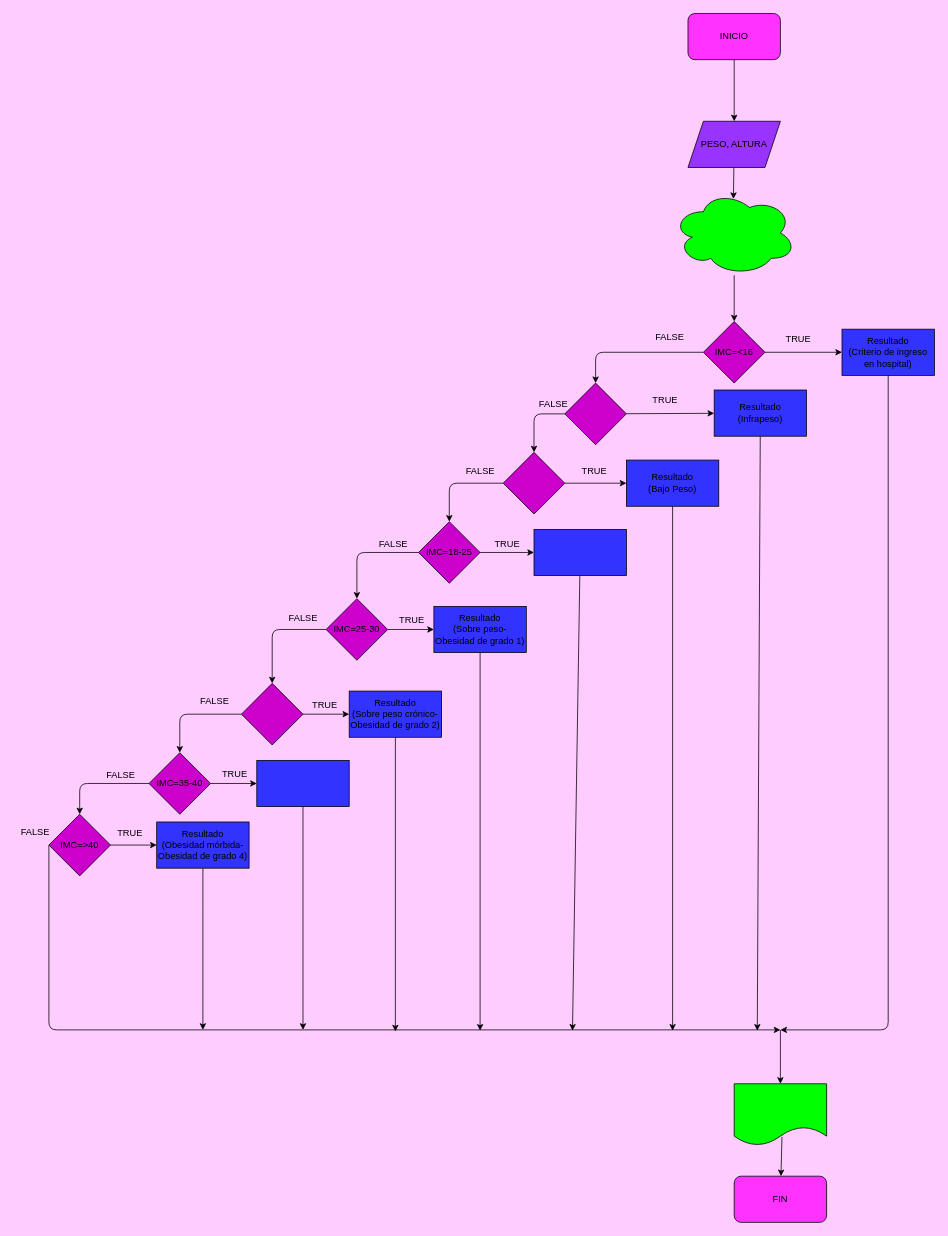
The diagram is 948 pixels wide and 1236 high, and some of its shapes have lost their labels. The shapes that lost their labels are listed below. From the top down, each one's centre as x and y in pixels, then its label:
[734,232]: (IMC= Peso [Kg] / Altura2 [m] )
[595,413]: IMC=16-17
[533,483]: IMC=17-18
[579,552]: Resultado (Peso normal. Saludable)
[272,714]: IMC=30-35
[302,783]: Resultado (Obesidad premórbida-Obesidad de drado 3)
[780,1114]: RESULTADO
